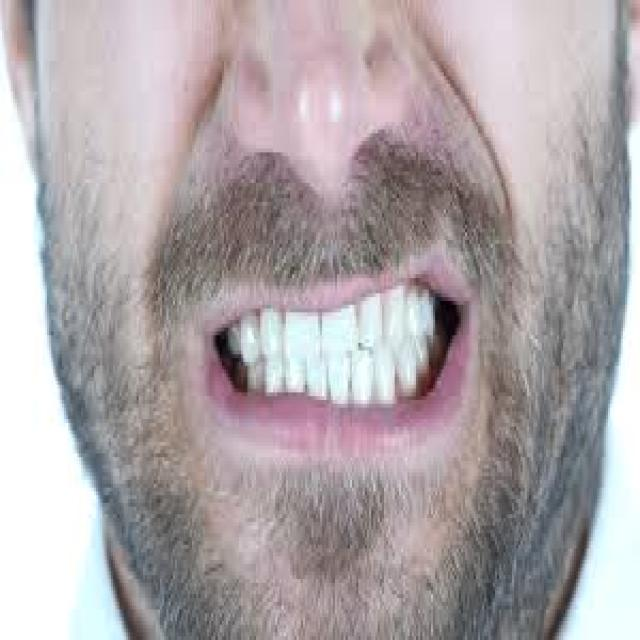tooth: (256, 301, 292, 377), (324, 347, 354, 415), (406, 297, 440, 354), (292, 316, 322, 370), (358, 297, 382, 358), (239, 316, 260, 374), (324, 316, 358, 351), (386, 294, 405, 354), (399, 354, 420, 400), (301, 369, 324, 404), (358, 358, 374, 408), (382, 354, 395, 408), (228, 328, 246, 362), (254, 373, 284, 392)
